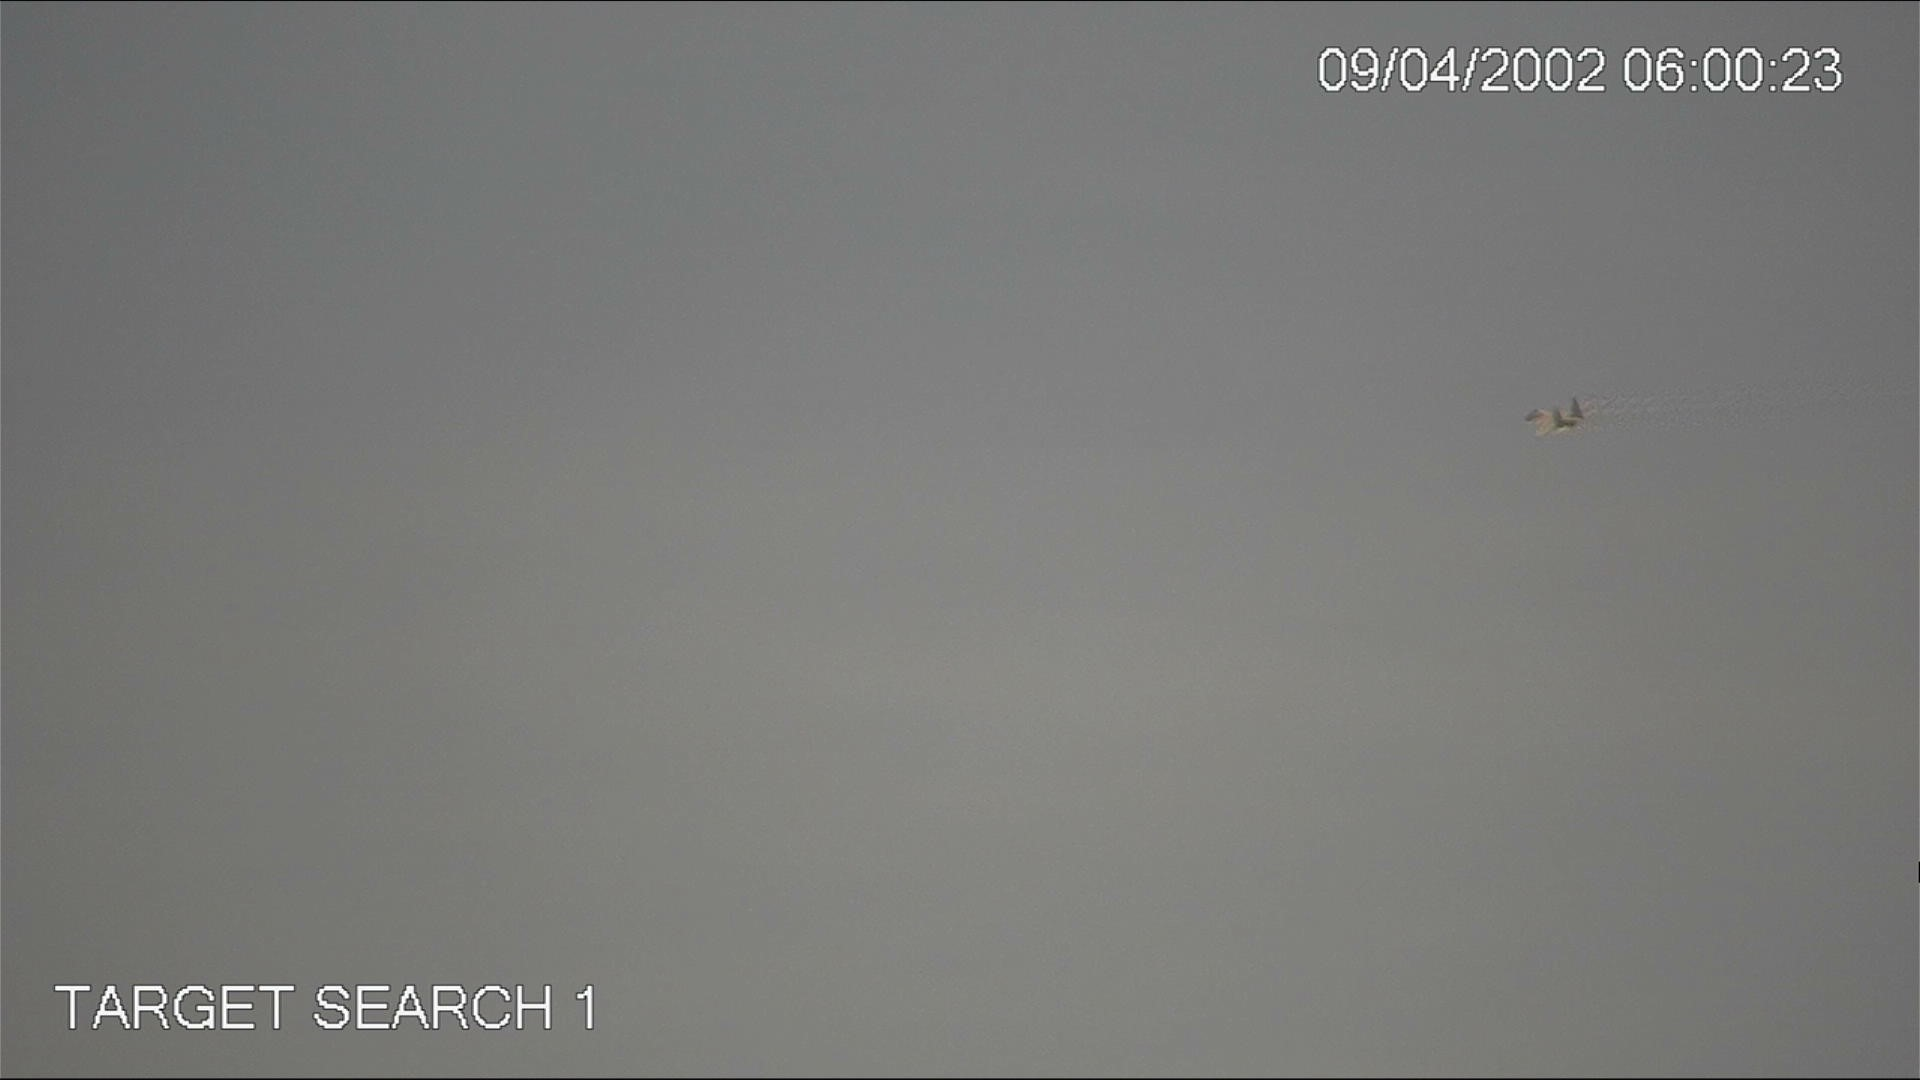SU_30: (1516, 401, 1597, 436)
